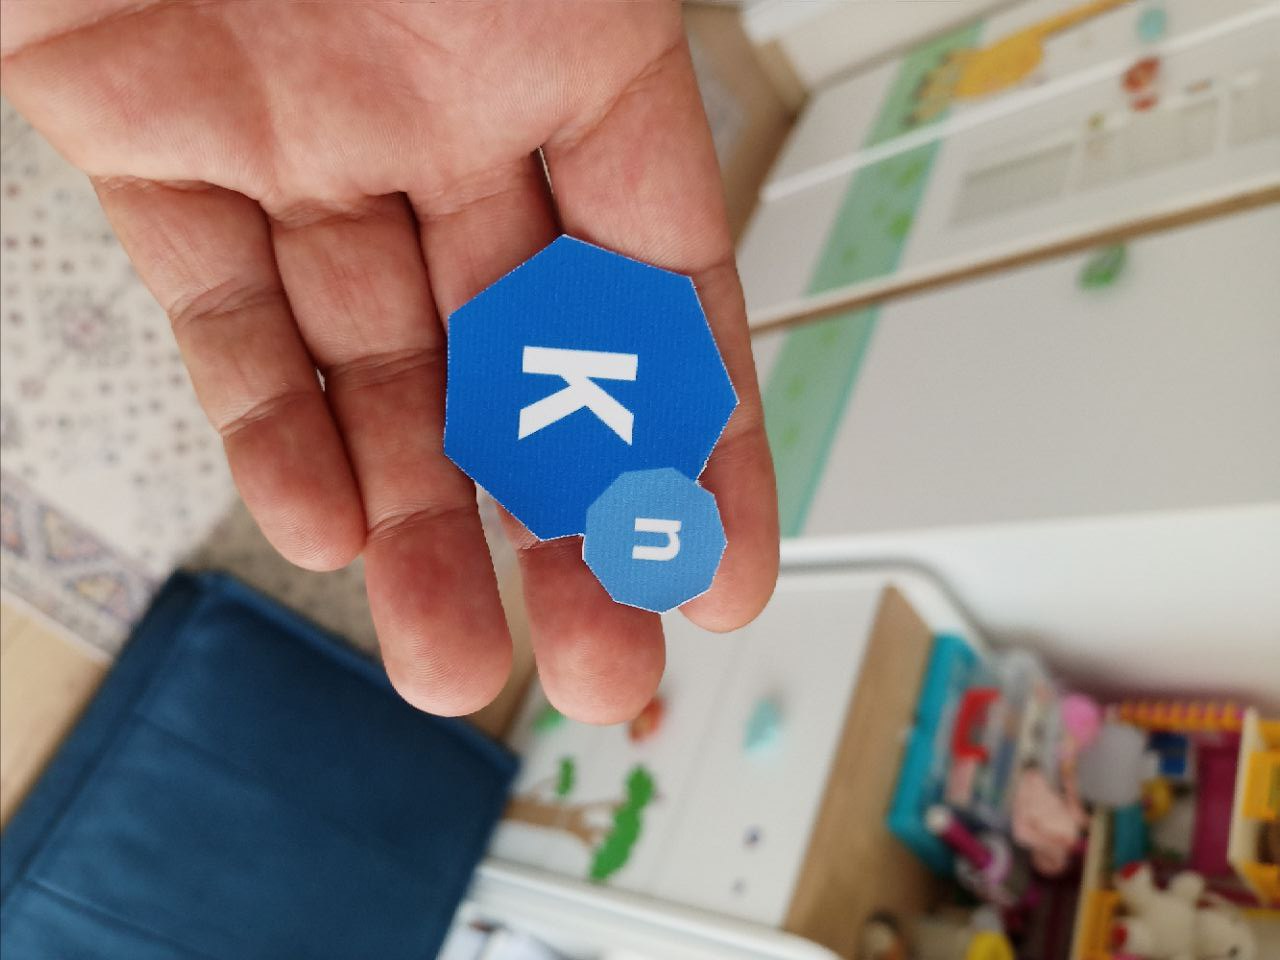knative: (446, 228, 741, 613)
